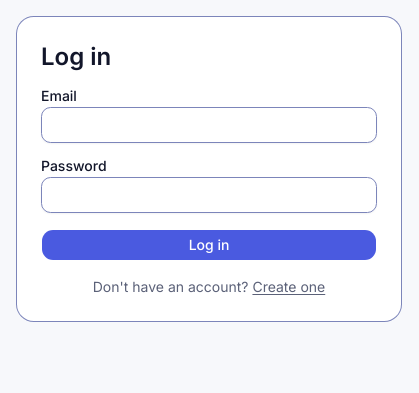
Scenario: LoginPage › shows an incorrect-credentials message when login rejects with invalid credentials
In the field labelled "Email": (209, 125) [41,107,377,143], type "me@example.com"
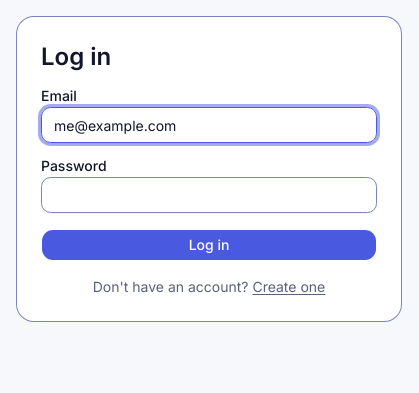
In the password field labelled "Password": (209, 195) [41,177,377,213], type "wrong-password"
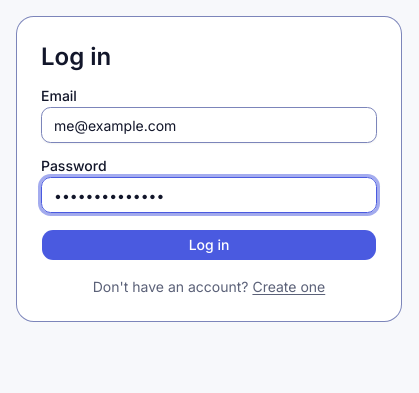
Click the button "Log in": (209, 245) [41,229,377,261]
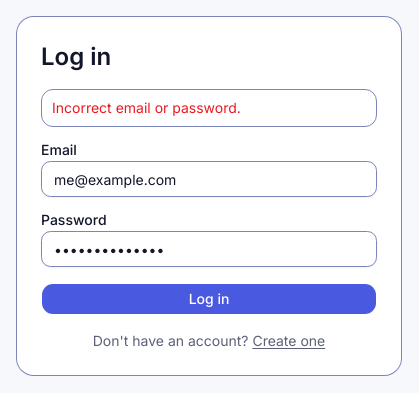
Result: the text "Incorrect email or password." is shown at [52,99,241,116]
